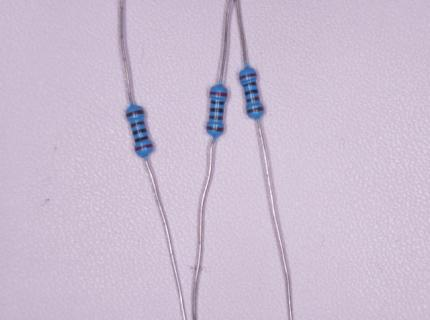Black band: (132, 128, 147, 135), (135, 136, 149, 143), (242, 81, 257, 87), (245, 89, 259, 95), (210, 107, 224, 113), (211, 101, 225, 105)
Brown band: (126, 109, 144, 118), (247, 106, 264, 113), (246, 96, 260, 103), (206, 126, 224, 131), (131, 121, 145, 127), (210, 115, 223, 120)
Red band: (135, 144, 153, 151), (239, 73, 257, 80), (210, 91, 228, 97)
